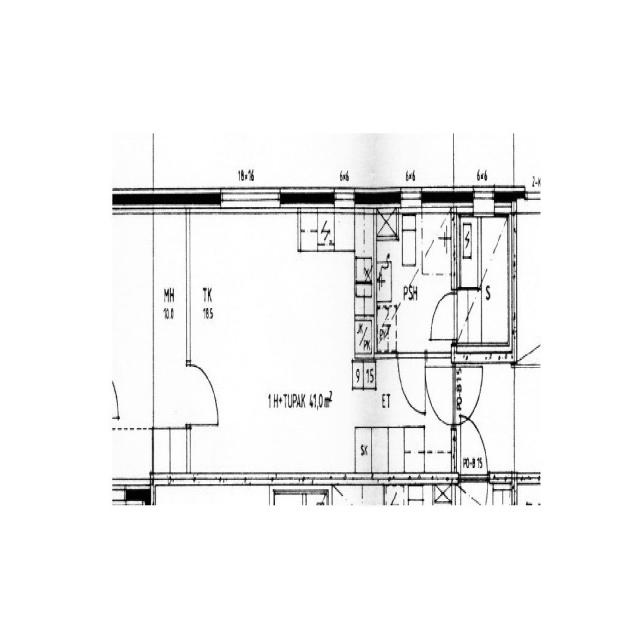door: (185, 354, 223, 433), (396, 348, 428, 418), (425, 356, 454, 426), (456, 356, 485, 424), (459, 416, 488, 479), (428, 286, 457, 346)
window: (218, 182, 282, 217), (471, 186, 496, 212), (397, 185, 425, 207), (332, 186, 356, 206)
zone: (373, 208, 456, 349), (456, 210, 514, 351)
